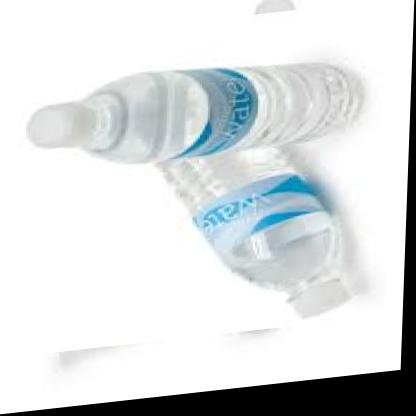trash: (27, 63, 362, 162), (161, 147, 349, 316)
